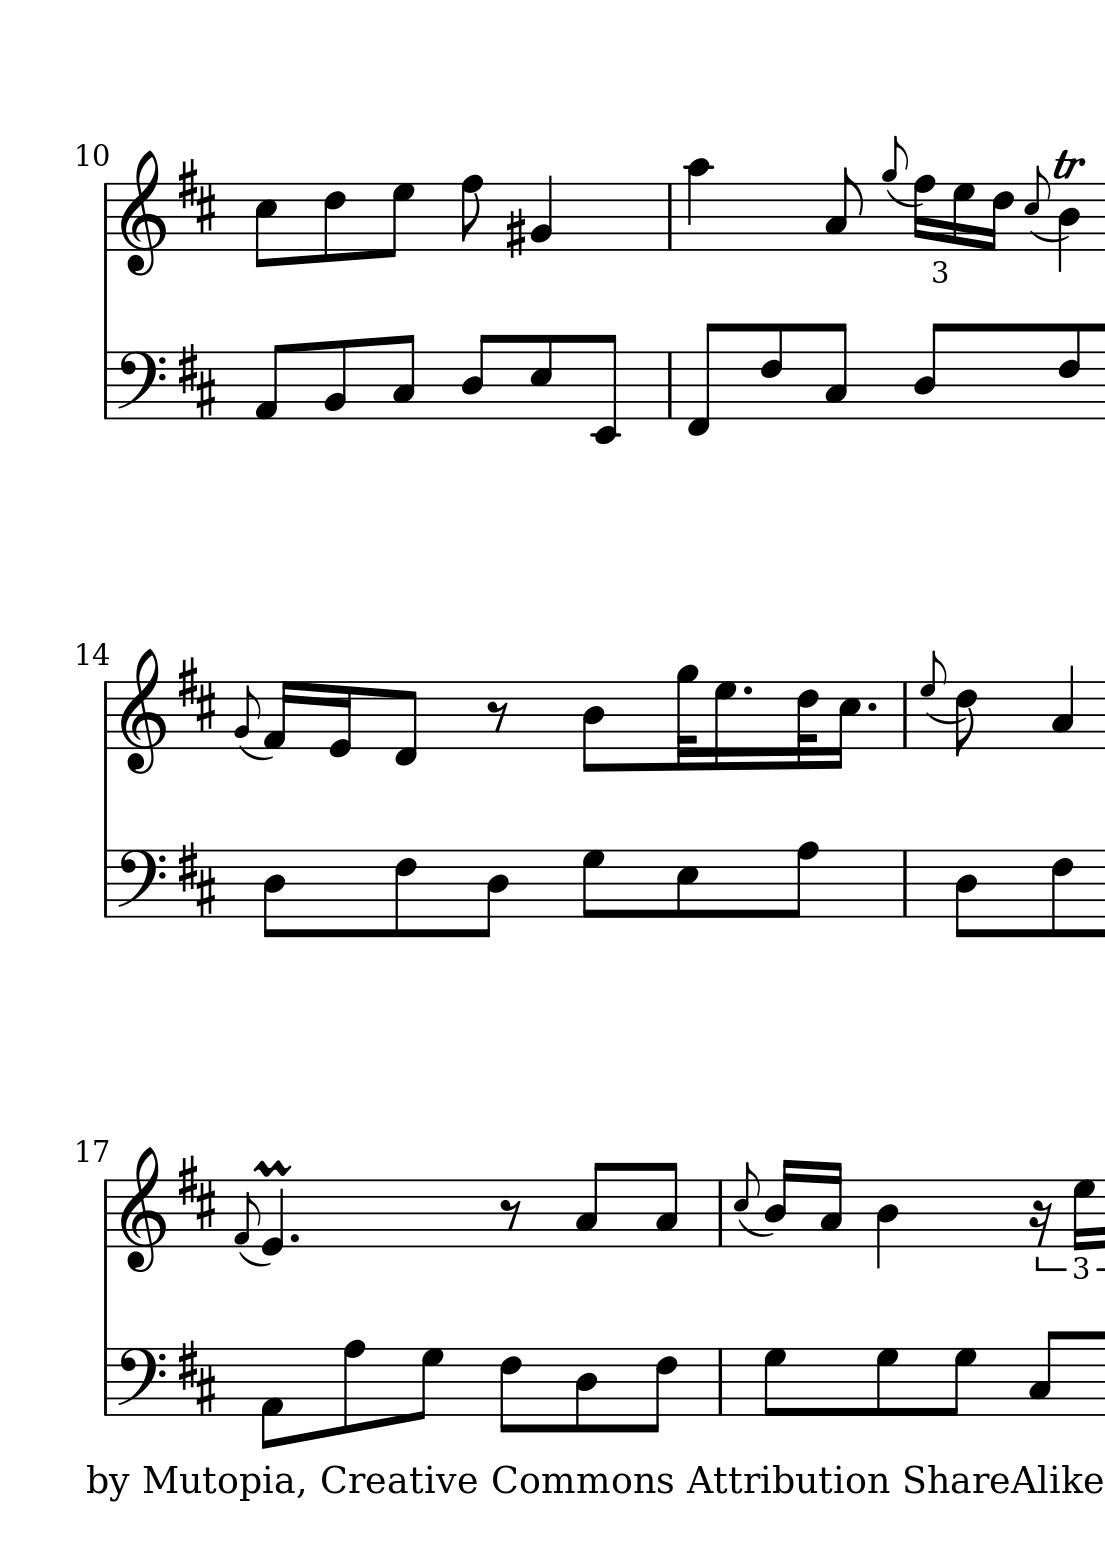0: (91, 139, 109, 171)
1: (74, 140, 90, 171), (74, 1137, 90, 1167), (74, 641, 90, 670)
16_0: (326, 679, 353, 759)
16_1: (262, 679, 294, 752)
16_3: (818, 1159, 843, 1248)
16_4: (763, 1156, 795, 1248)
16_5: (831, 680, 861, 770)
16_6: (983, 182, 1013, 254)
16_7: (712, 679, 737, 773), (1072, 1177, 1095, 1253), (950, 182, 975, 254)
16_8: (911, 173, 935, 252)
3: (1072, 1250, 1089, 1289), (932, 260, 948, 285)
32_6: (795, 679, 819, 770)
32_9: (674, 661, 700, 773)
4: (91, 640, 111, 670)
4_0: (261, 1179, 285, 1258)
4_10: (684, 157, 712, 254)
4_2: (529, 175, 552, 252)
4_3: (1049, 664, 1075, 751)
4_4: (873, 1178, 899, 1270), (1057, 182, 1081, 275)
7: (92, 1136, 110, 1167)
8_-1: (684, 320, 722, 436), (392, 679, 419, 768)
8_-2: (590, 332, 622, 445)
8_1: (254, 343, 286, 421), (260, 1345, 283, 1449)
8_2: (320, 338, 348, 421)
8_3: (823, 166, 863, 254), (1026, 1329, 1060, 1419), (573, 1160, 606, 1250), (822, 320, 849, 421), (653, 1160, 679, 1250), (390, 332, 416, 421)
8_4: (912, 320, 947, 421), (474, 848, 509, 940), (459, 332, 493, 422), (952, 847, 978, 940), (580, 680, 605, 775), (572, 1347, 598, 1435), (260, 848, 285, 940)
8_5: (527, 332, 554, 421), (254, 181, 277, 270), (674, 848, 700, 920)
8_6: (641, 1345, 679, 1436), (1054, 320, 1083, 421), (757, 320, 785, 421), (1048, 847, 1074, 940), (392, 847, 417, 940), (497, 1347, 523, 1436), (320, 181, 344, 265), (952, 680, 977, 759)
8_7: (381, 181, 414, 260), (411, 1347, 444, 1421), (944, 1347, 977, 1417), (580, 847, 606, 921), (762, 1347, 788, 1419), (874, 1347, 901, 1418)
8_8: (785, 839, 818, 918), (341, 1338, 366, 1435), (458, 175, 484, 254)
Appoggiature: (883, 138, 909, 248), (920, 651, 946, 751), (734, 1167, 763, 1252), (1022, 163, 1048, 252), (233, 679, 264, 750), (232, 1179, 262, 1248)
D_S: (173, 1153, 216, 1232), (175, 653, 215, 735), (175, 341, 216, 419), (176, 155, 215, 233), (177, 839, 216, 917), (176, 1338, 216, 1414)
Fclef: (115, 349, 167, 421), (115, 1347, 166, 1417), (116, 847, 166, 918)
Gclef: (117, 646, 167, 776), (116, 149, 166, 277), (118, 1144, 167, 1274)
Rests16: (1028, 1198, 1054, 1248)
Rests8: (497, 1197, 521, 1232), (486, 700, 509, 733)
Sharp: (503, 207, 527, 260)
ShortTrill: (251, 1156, 293, 1179)
Single_barline: (895, 850, 915, 917), (895, 680, 914, 749), (661, 184, 680, 249), (660, 352, 678, 419), (712, 1180, 729, 1247), (712, 1348, 729, 1415), (97, 352, 114, 420), (97, 682, 112, 749), (98, 1349, 114, 1416), (97, 851, 112, 917), (98, 184, 112, 250), (98, 1182, 112, 1246)
Slur: (732, 1214, 773, 1245), (238, 744, 274, 762), (1028, 232, 1070, 246), (238, 1250, 271, 1266)
Trill: (1050, 148, 1083, 182)
dot: (863, 700, 880, 714), (739, 683, 755, 697), (286, 1231, 301, 1245)
